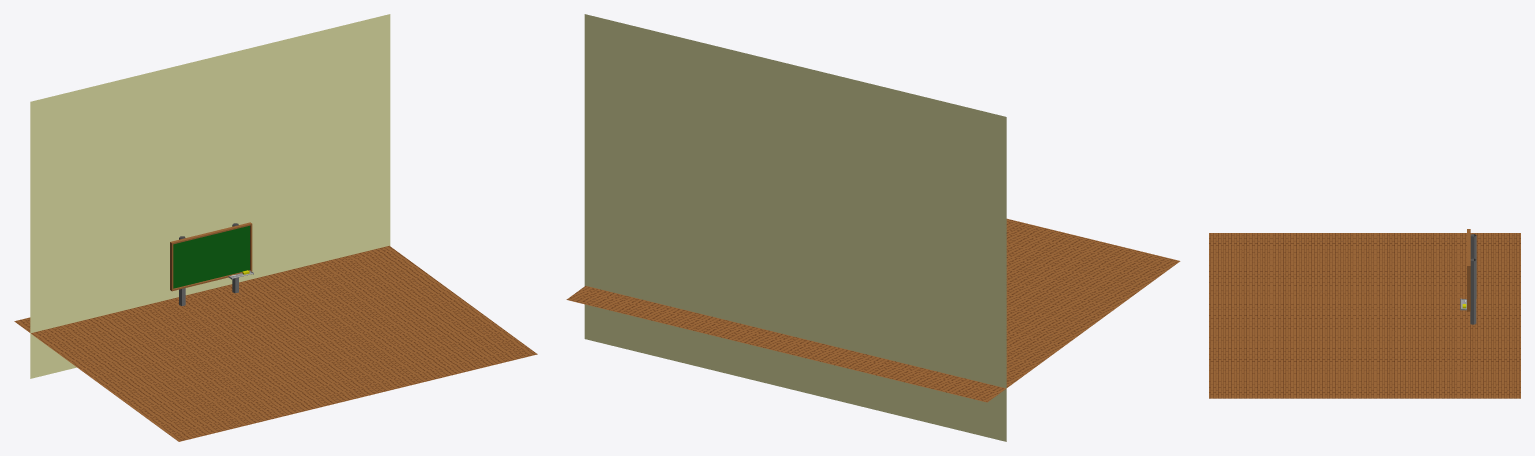
The model's file is Tafel.FBX.
3 views of the same model, side by side, from view 1: azimuth 30°, elevation 25°; view 2: azimuth 150°, elevation 25°; view 3: azimuth 270°, elevation 25° (orthographic). The views are drawn at different scales.
Visible parts, largest first — view 1: TafelundWand, Boden; view 2: TafelundWand, Boden; view 3: Boden, TafelundWand.
Boxes of the visible parts, x1,y1,x2,y2 form: TafelundWand: (30, 14, 390, 378); Boden: (14, 245, 537, 441); TafelundWand: (584, 14, 1006, 441); Boden: (566, 218, 1180, 402); Boden: (1209, 233, 1520, 398); TafelundWand: (1460, 229, 1476, 324).
Size of the model in its own units: 429 by 316 by 340.
